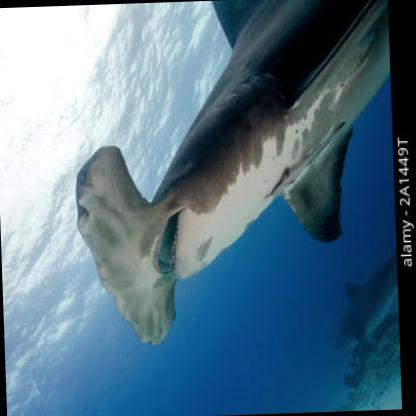hammerhead_Shark: (41, 0, 402, 361)
